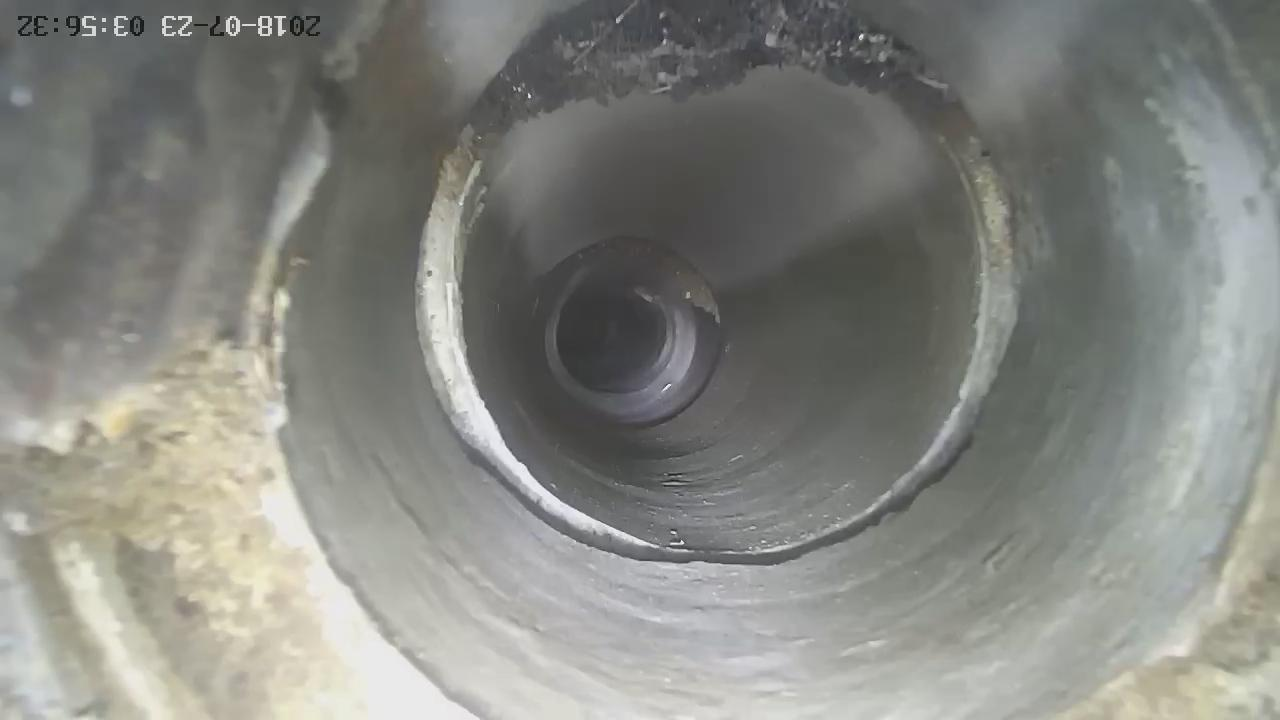CKTJ: (409, 7, 1035, 573)
